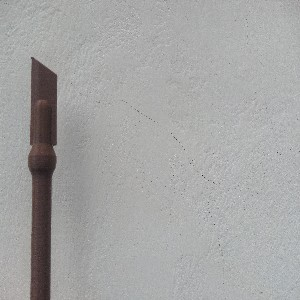cutter: (26, 55, 59, 300)
